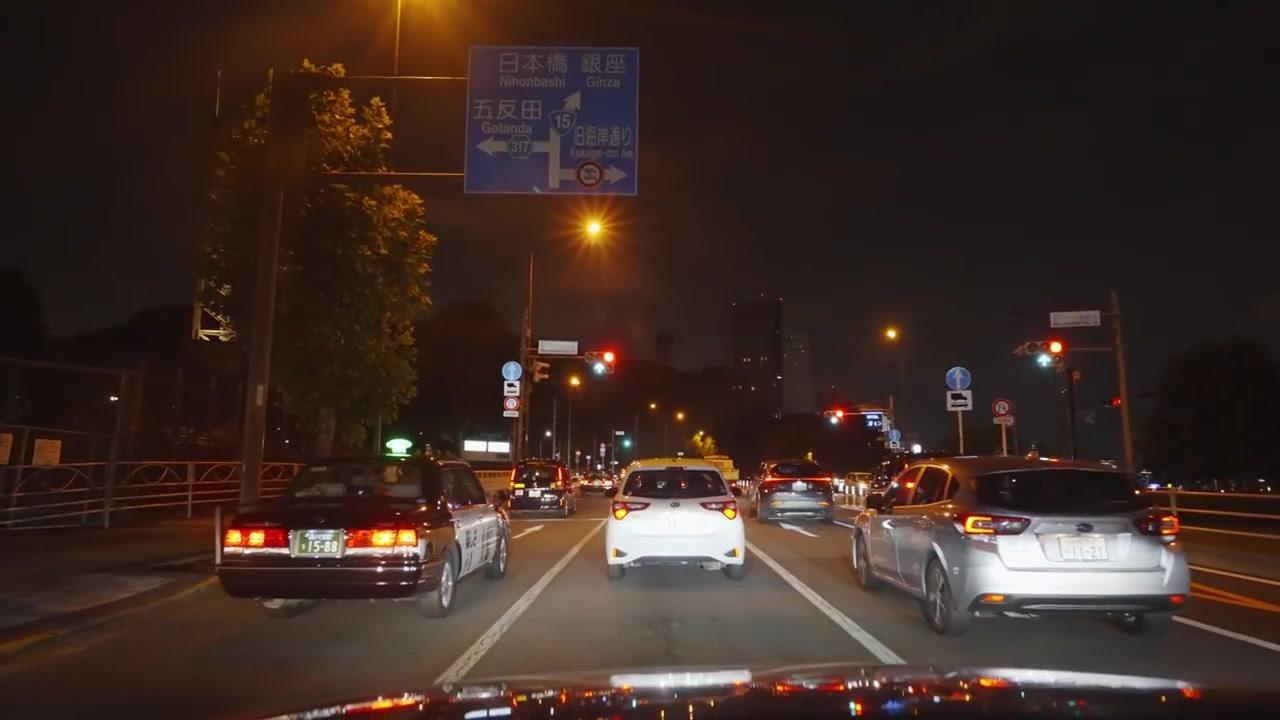car: (849, 454, 1190, 637), (217, 452, 510, 619), (603, 459, 748, 582), (755, 459, 835, 525), (509, 460, 578, 518), (579, 474, 616, 496)
traffic light: (1042, 336, 1066, 367), (597, 348, 618, 376), (618, 433, 633, 455), (830, 409, 843, 426)
